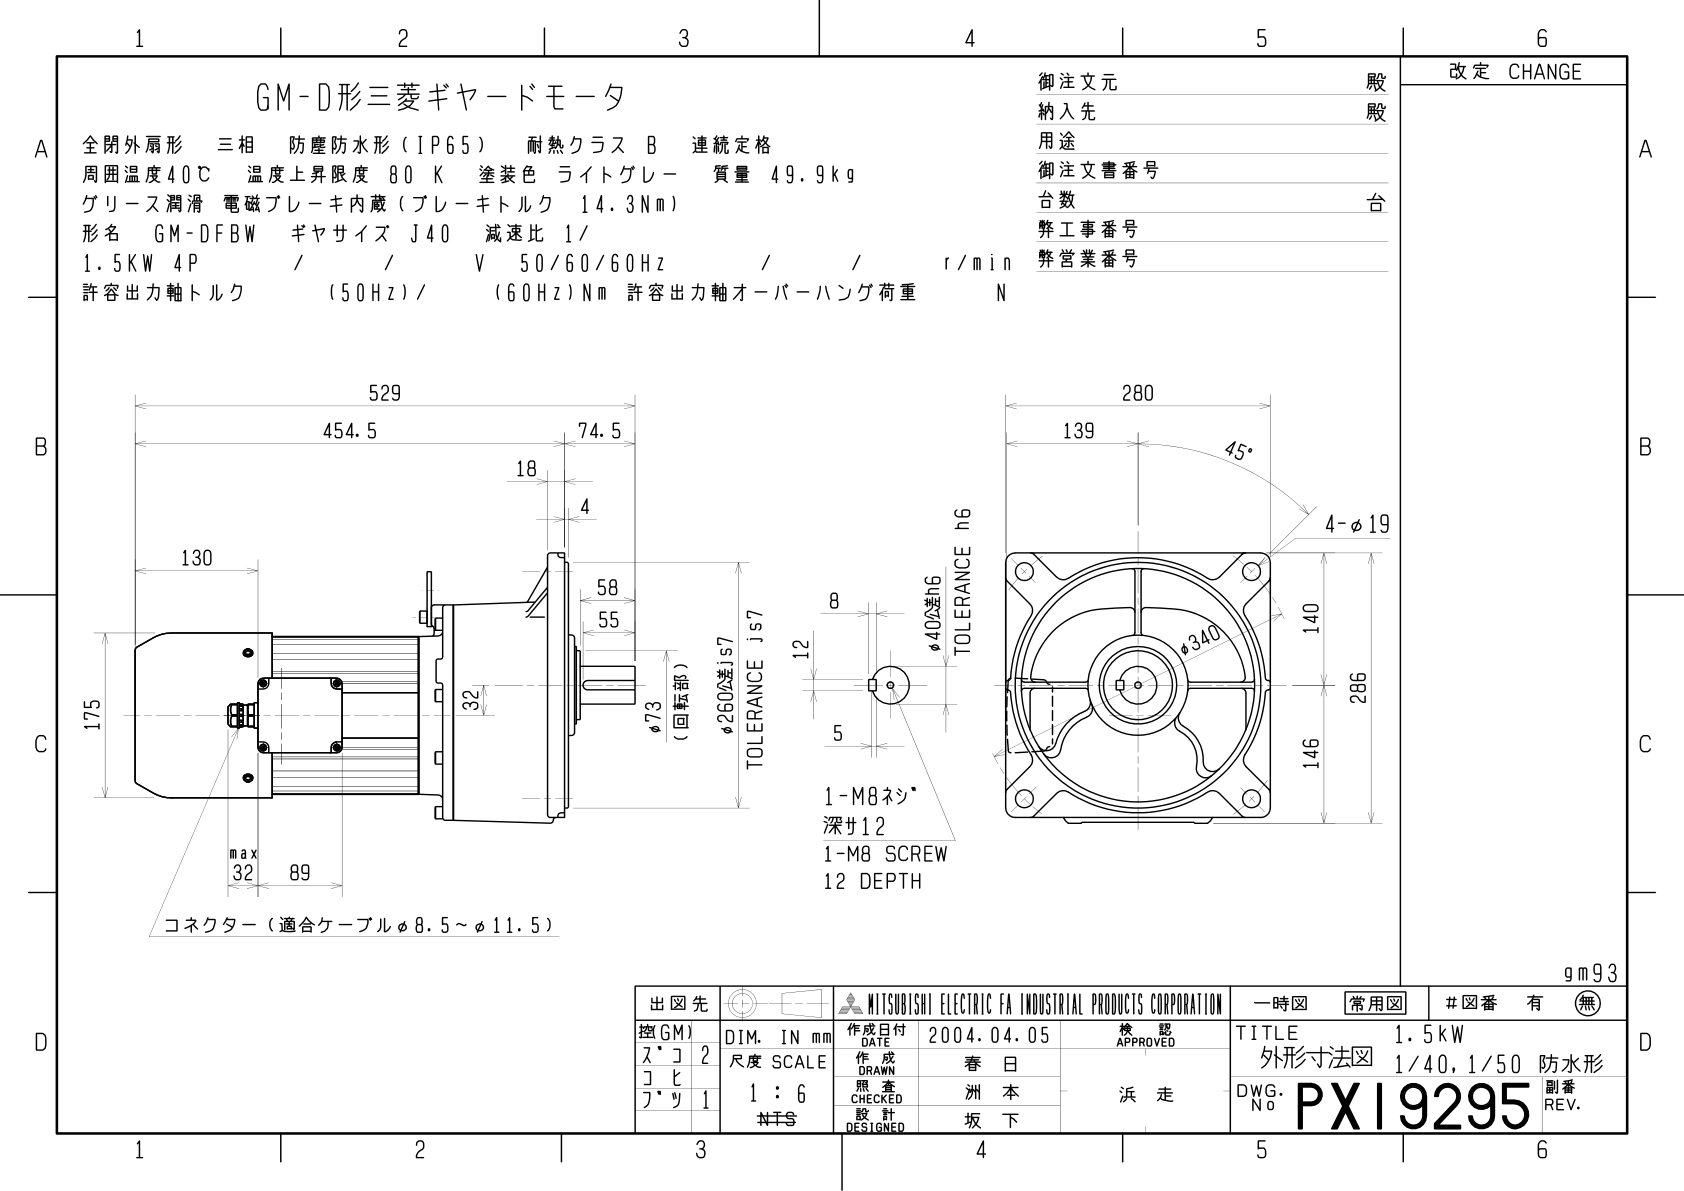GM_D_IP65_三相_フランジ: (58, 351, 1401, 951)
